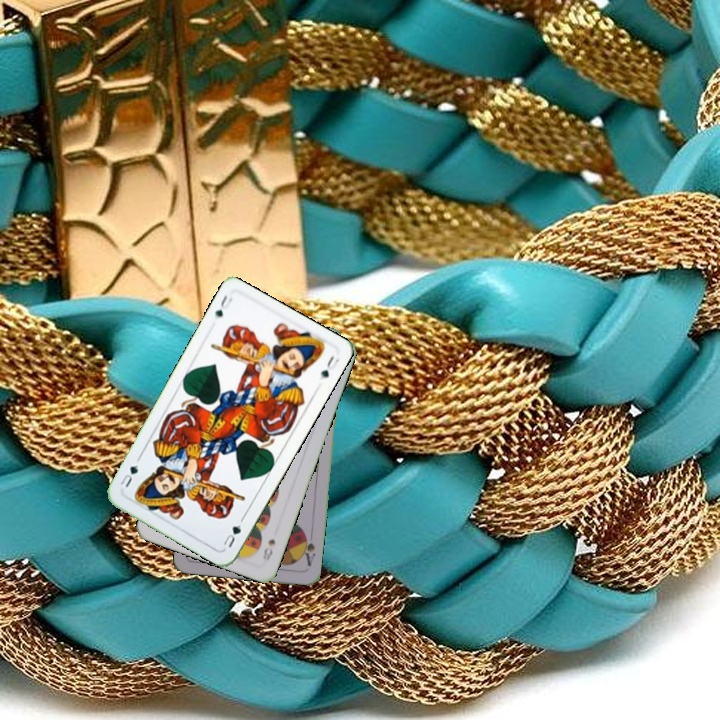GU: (218, 514, 246, 550), (210, 290, 235, 320)
S8: (259, 535, 278, 565)
SA: (298, 529, 318, 569)
